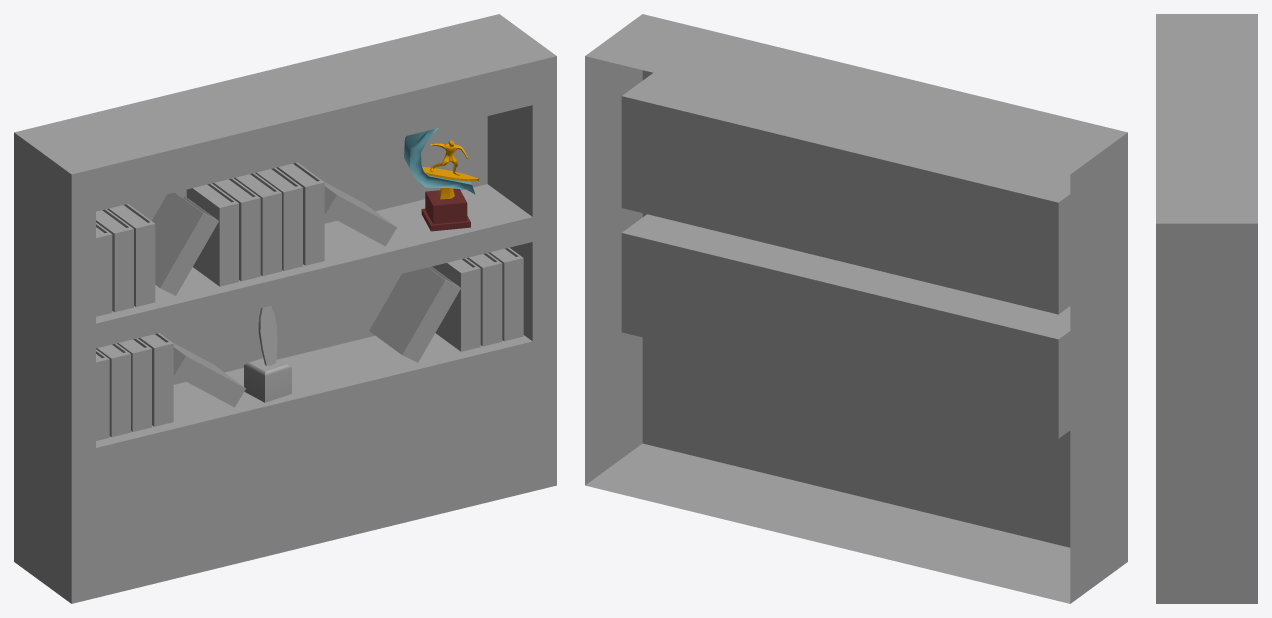
Rendered from SM_BossShelf.fbx.
3 renders of one model, left to right at view 1: azimuth 30°, elevation 25°; view 2: azimuth 150°, elevation 25°; view 3: azimuth 270°, elevation 25°, orthographic. The views are drawn at different scales.
Visible parts, largest first — view 1: SM_Shelf, SM_Books, SM_SurferTrophy, SM_TrophyBoard; view 2: SM_Shelf; view 3: SM_Shelf.
Boxes of the visible parts, x1,y1,x2,y2 form: SM_Shelf: (14,14,556,603); SM_Books: (96,162,523,440); SM_SurferTrophy: (404,128,478,231); SM_TrophyBoard: (244,306,291,402); SM_Shelf: (585,14,1127,603); SM_Shelf: (1156,14,1257,603).
Size of the model in its own units: 301 by 254 by 61.69.
